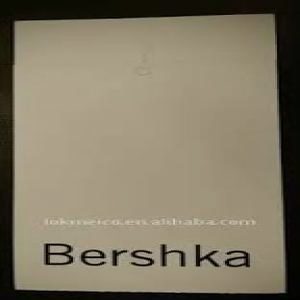bershka: (244, 62, 274, 300)
